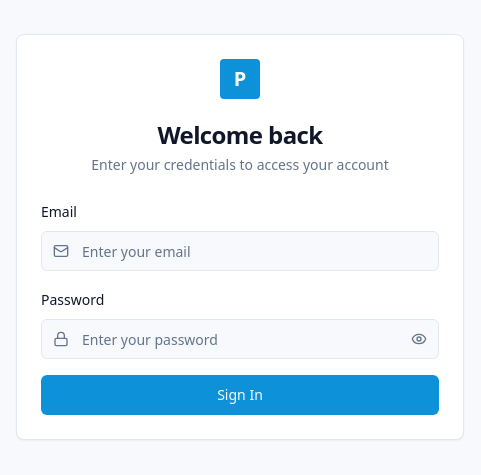
Test: disabled account shows message
Type "bob@example.com" into the field labelled "Email".
click(240, 251); type("bob@example.com")  # box [41,231,439,271]
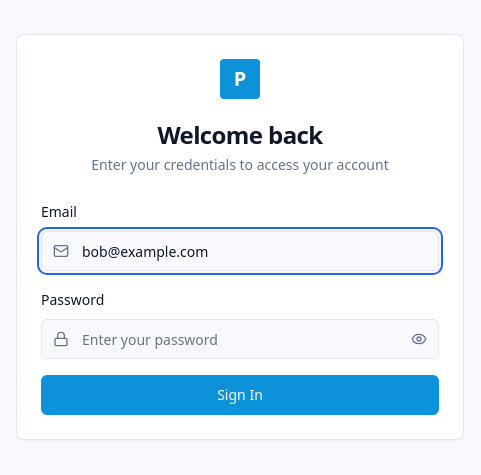
Type "pass" into the password field labelled "Password".
click(240, 339); type("pass")  # box [41,319,439,359]
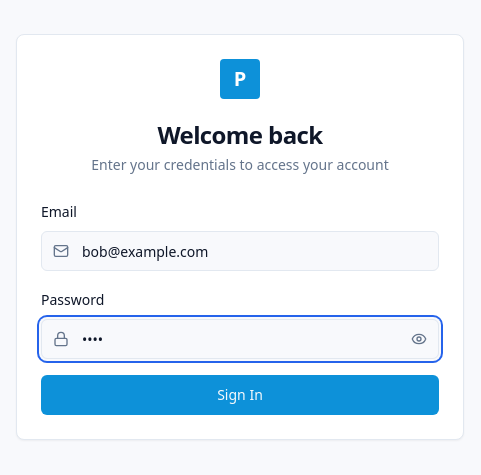
Click the button "Sign In".
click(240, 395)  # box [41,375,439,415]
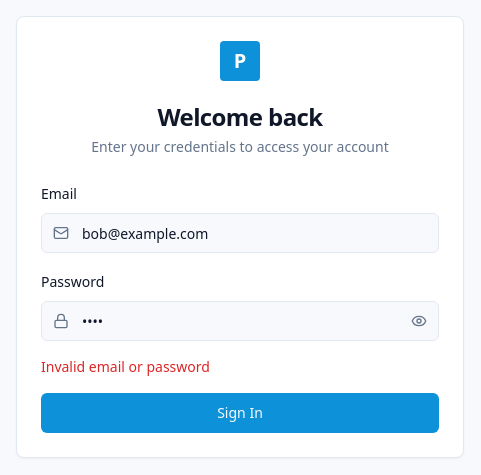
Check: the text "Invalid email or password" is shown, box [41,357,210,376]
